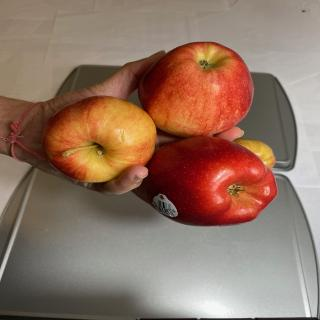Apple: (136, 136, 278, 227), (138, 41, 255, 138), (41, 95, 157, 183)
Lemon: (232, 138, 276, 170)
